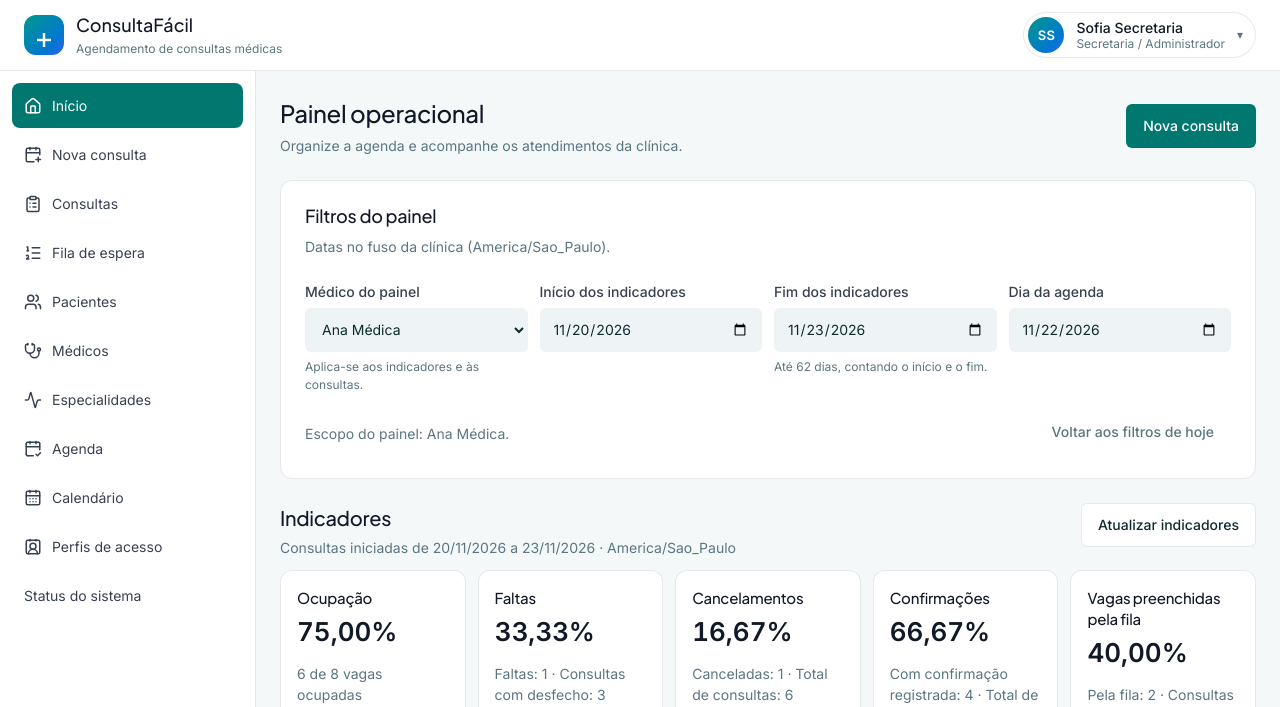
Test: volta ao escopo e às datas de hoje em uma ação
The width and height of the screenshot is (1280, 707).
Click the button "Voltar aos filtros de hoje".
click(1133, 432)  # box [1034,410,1231,454]
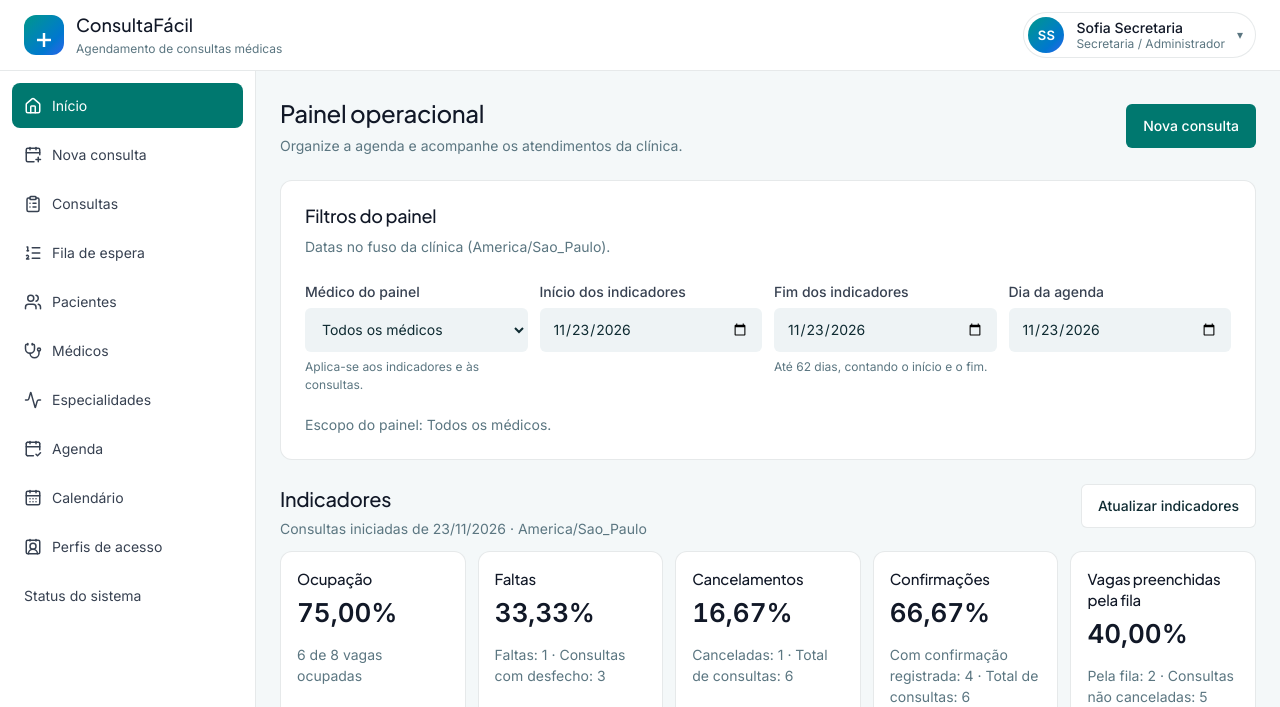
Check: the dropdown labelled "Médico do painel" shows "Todos os médicos", box [305,308,528,352]
Check: the date field labelled "Início dos indicadores" holds "2026-11-23", box [540,308,762,352]
Check: the text "Escopo do painel: Todos os médicos." is shown, box [305,414,551,434]
